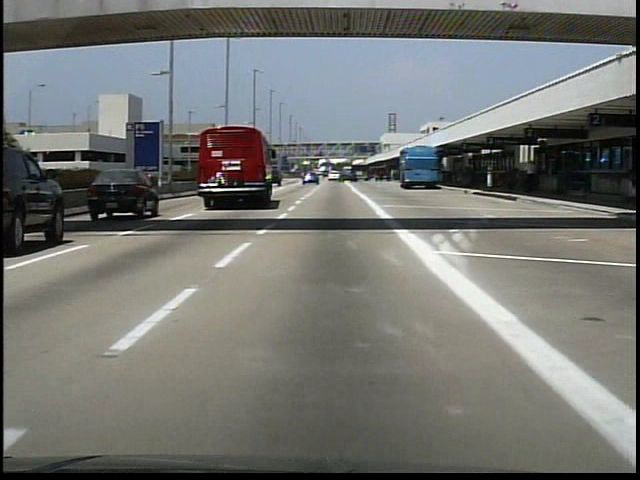person: (525, 158, 539, 193)
